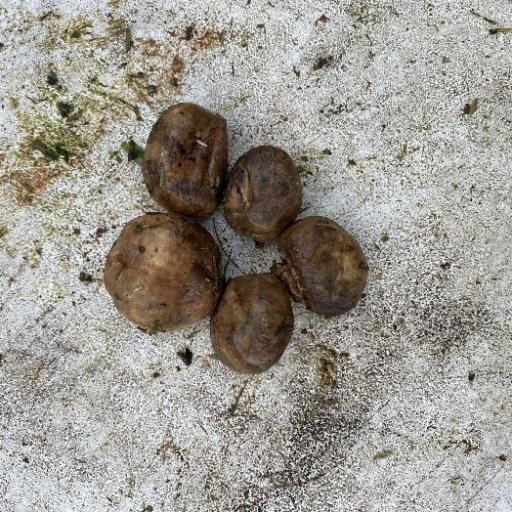Waste: (101, 100, 370, 376), (102, 210, 224, 335), (140, 101, 228, 219), (272, 214, 369, 318), (208, 272, 295, 375), (221, 144, 303, 243)
